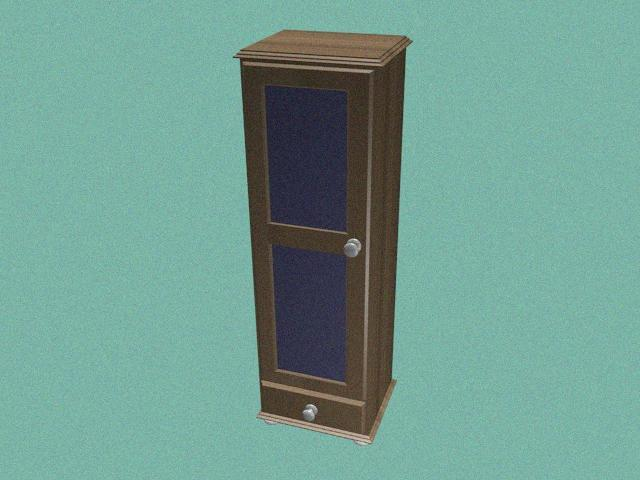cabinet_door: (242, 63, 373, 395), (260, 396, 371, 433)
handle: (341, 232, 363, 266), (298, 399, 321, 424)
